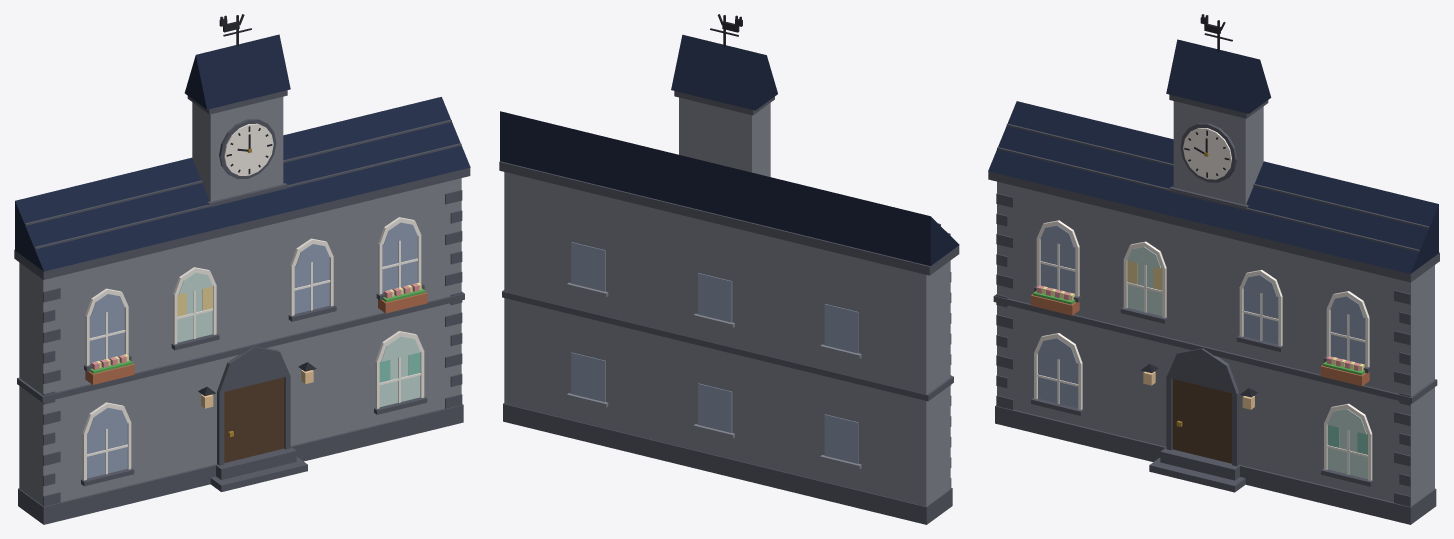
File: CatCafe_Alley_Building_ClockHouse.glb
The picture shows the model from 3 angles, left to right: view 1: azimuth 30°, elevation 25°; view 2: azimuth 150°, elevation 25°; view 3: azimuth 330°, elevation 25°; orthographic projection.
Parts seen in each view (by area): view 1: CatCafe_Alley_Building_ClockHouse, CatCafe_Alley_Building_ClockHouse_Pane, CatCafe_Alley_Building_ClockHouse_Flowers; view 2: CatCafe_Alley_Building_ClockHouse; view 3: CatCafe_Alley_Building_ClockHouse, CatCafe_Alley_Building_ClockHouse_Pane, CatCafe_Alley_Building_ClockHouse_Flowers.
Part boxes in pixels (x1,y1,x2,y2): CatCafe_Alley_Building_ClockHouse: [14, 14, 470, 524]; CatCafe_Alley_Building_ClockHouse_Pane: [177, 272, 420, 406]; CatCafe_Alley_Building_ClockHouse_Flowers: [90, 282, 425, 373]; CatCafe_Alley_Building_ClockHouse: [499, 14, 959, 524]; CatCafe_Alley_Building_ClockHouse: [988, 14, 1439, 524]; CatCafe_Alley_Building_ClockHouse_Pane: [1127, 246, 1367, 478]; CatCafe_Alley_Building_ClockHouse_Flowers: [1033, 285, 1364, 375].
Size of the model in its own units: 30.6 by 30.75 by 4.75.
1 material, 1 textured.
